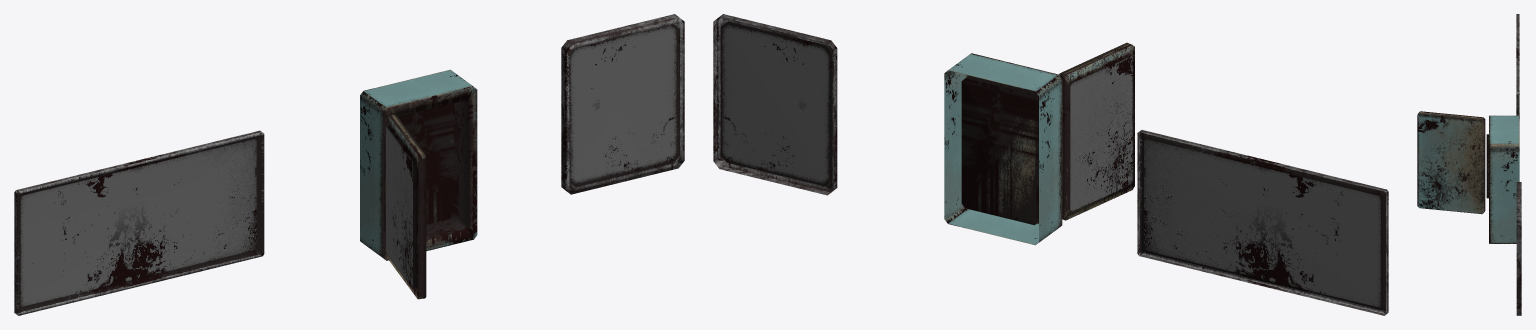
File: mirrors_variety.fbx
3 views of the same model, side by side, from view 1: azimuth 30°, elevation 25°; view 2: azimuth 150°, elevation 25°; view 3: azimuth 270°, elevation 25° (orthographic). The views are drawn at different scales.
Parts seen in each view (by area): view 1: bathroom_mirror, mirror, bathroom_cabinet, bathroom_mirror1; view 2: bathroom_mirror, bathroom_cabinet, mirror, bathroom_mirror1; view 3: bathroom_mirror1, bathroom_cabinet, mirror, bathroom_mirror.
Boxes of the visible parts, bbox=[...] form: bathroom_mirror: bbox=[14, 130, 264, 315]; mirror: bbox=[561, 14, 684, 194]; bathroom_cabinet: bbox=[360, 69, 477, 260]; bathroom_mirror1: bbox=[386, 114, 426, 299]; bathroom_mirror: bbox=[1137, 130, 1388, 315]; bathroom_cabinet: bbox=[944, 53, 1062, 245]; mirror: bbox=[713, 14, 837, 195]; bathroom_mirror1: bbox=[1059, 42, 1134, 220]; bathroom_mirror1: bbox=[1417, 111, 1485, 214]; bathroom_cabinet: bbox=[1486, 115, 1519, 243]; mirror: bbox=[1516, 182, 1521, 315]; bathroom_mirror: bbox=[1516, 14, 1519, 115].
Size of the model in its own units: 101 by 22 by 20.74.
Materials: 1 (1 with a texture image).
